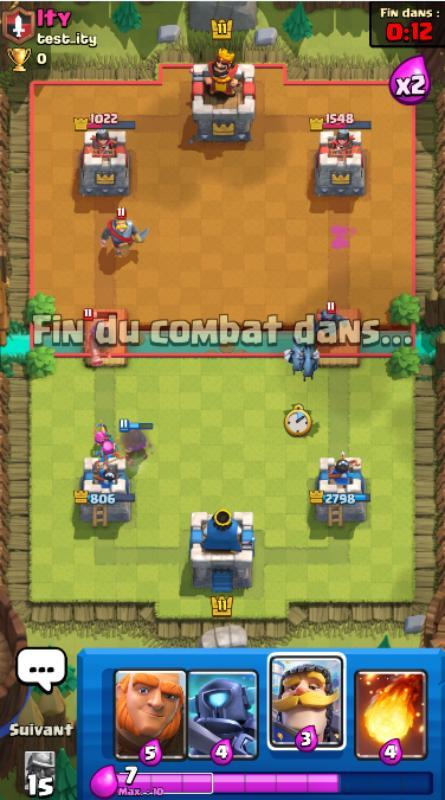archere: (82, 307, 118, 367), (88, 419, 116, 449), (95, 440, 124, 460)
chevalier: (99, 206, 151, 260)
gargouille: (298, 346, 320, 380), (284, 344, 307, 375)
mini_PEKKA: (308, 300, 350, 336)
mousquetaire: (117, 418, 155, 464)
